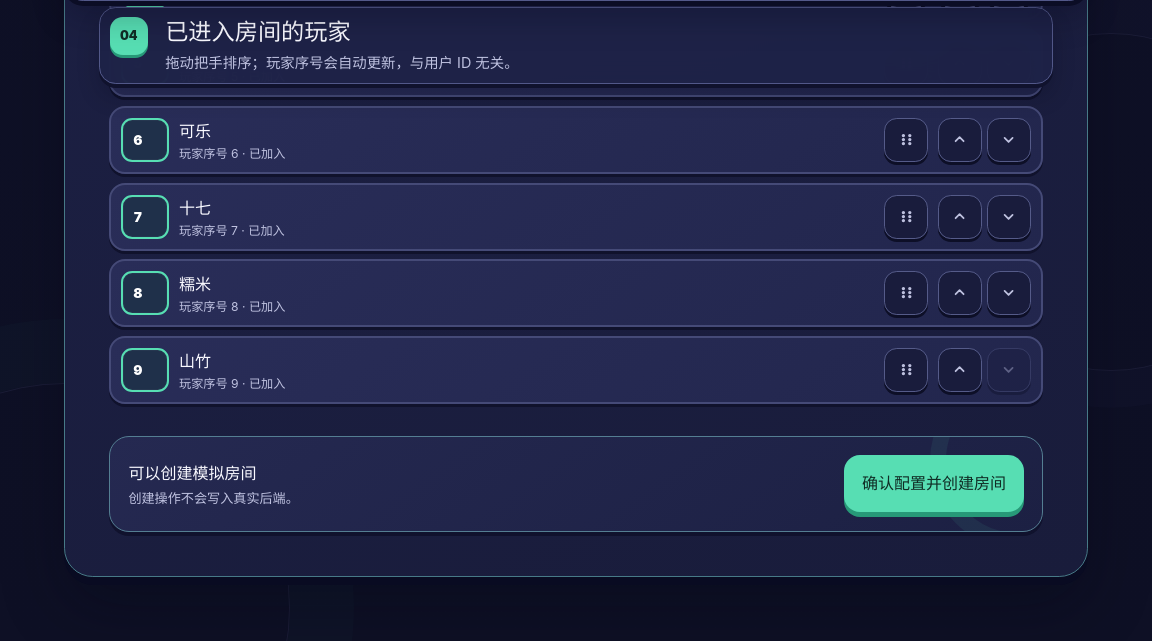
Scenario: 上帝夜间演示 › 可以从创建后的模拟房间进入夜间演示
The width and height of the screenshot is (1152, 641).
(page scrolled)
Click the button "确认配置并创建房间": (934, 484) [844, 456, 1024, 512]
(page scrolled)
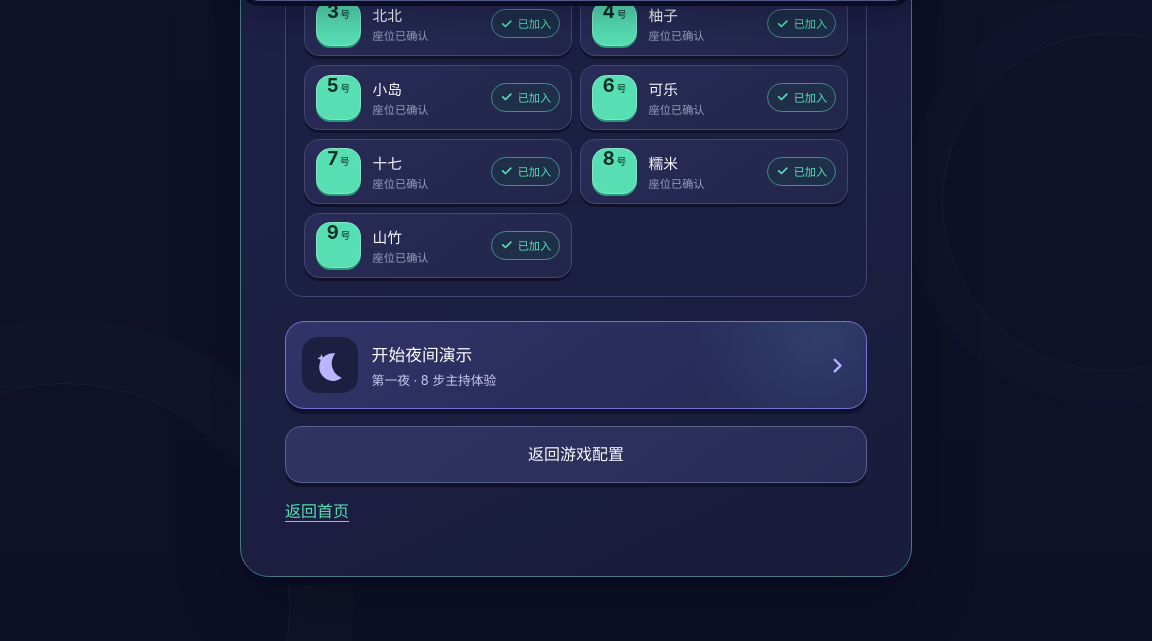
Click the link "开始夜间演示 第一夜 · 8 步主持体验": (330, 365) [285, 321, 867, 409]
(page scrolled)
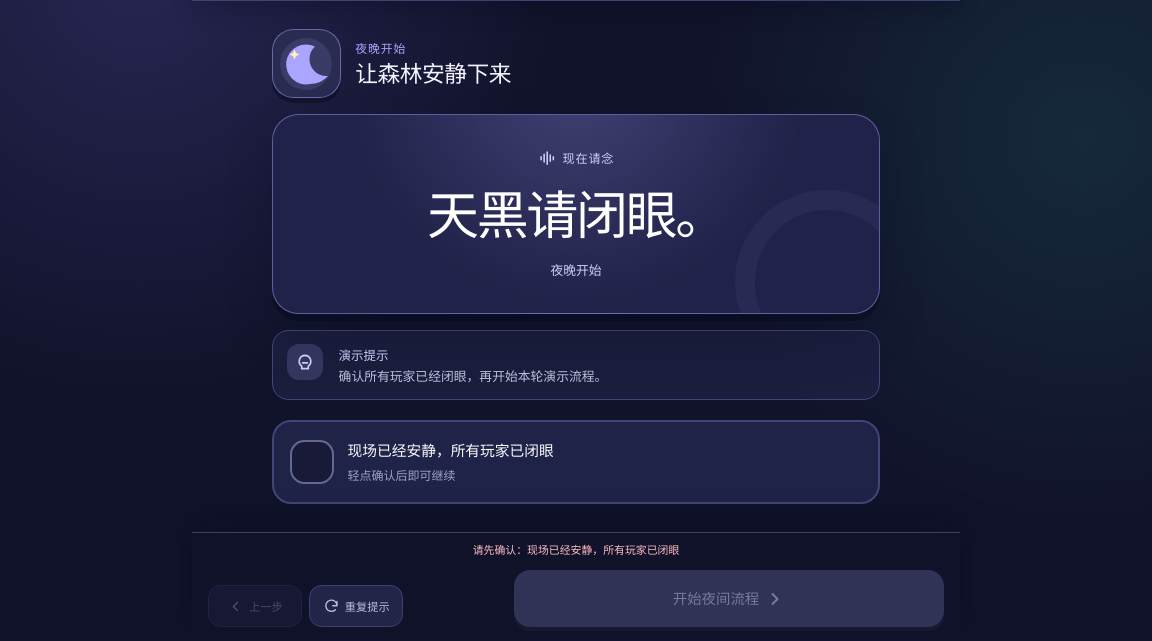
Expected: the heading "天黑请闭眼。" is shown, [427, 184, 725, 247]
